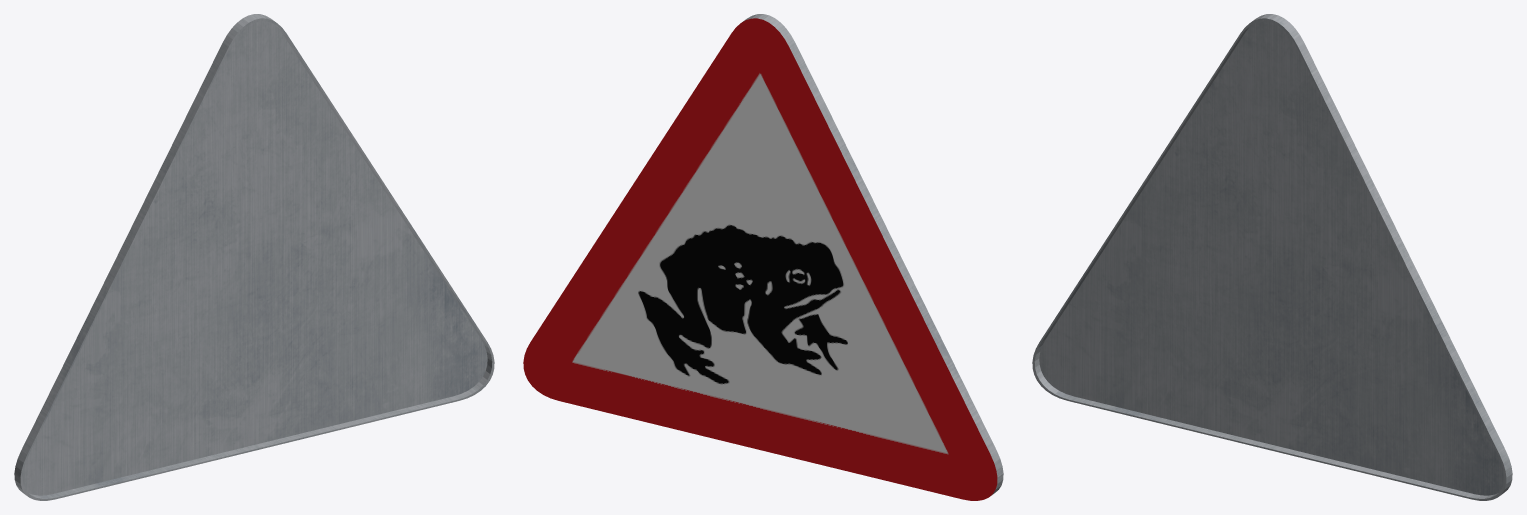
The model's file is Migratory_toad_crossing.fbx.
3 renders of one model, left to right at view 1: azimuth 30°, elevation 25°; view 2: azimuth 150°, elevation 25°; view 3: azimuth 330°, elevation 25°, orthographic.
Parts seen in each view (by area): view 1: Migratory toad crossing; view 2: Migratory toad crossing; view 3: Migratory toad crossing.
Part boxes in pixels (x1,y1,x2,y2): Migratory toad crossing: [14, 14, 494, 500]; Migratory toad crossing: [523, 14, 1003, 500]; Migratory toad crossing: [1032, 14, 1512, 500].
Bounding box in the file's own units: 0.02 × 0.9002 × 0.7821.
